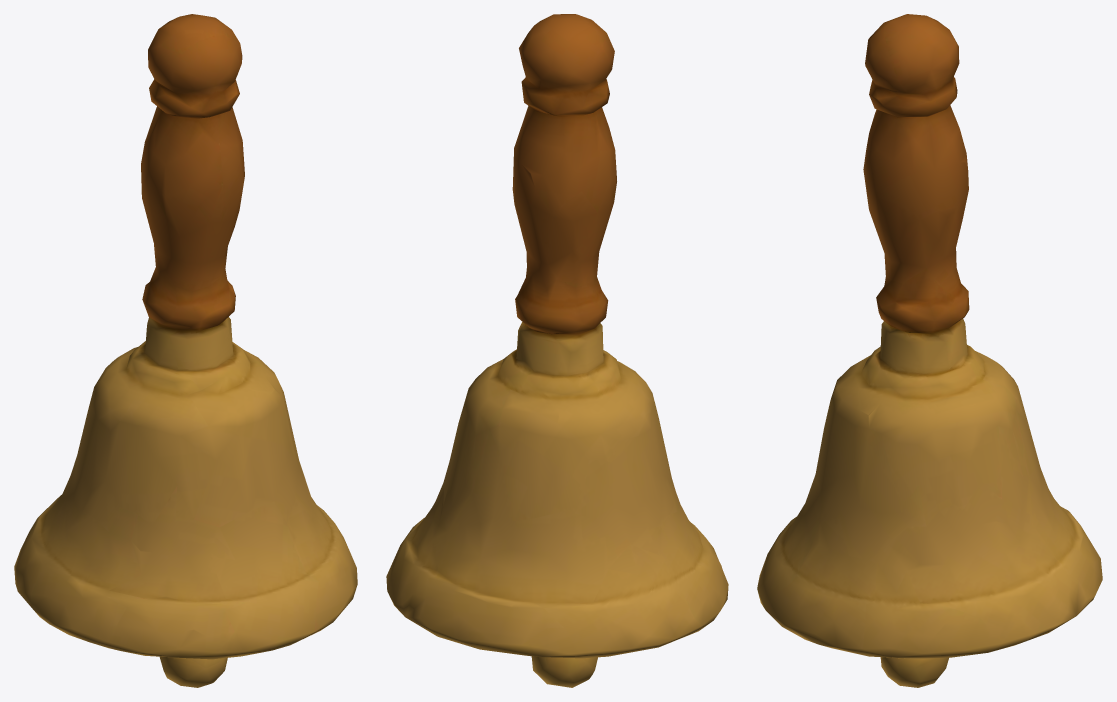
File: toy-bell.glb
3 views of the same model, side by side, from view 1: azimuth 30°, elevation 25°; view 2: azimuth 150°, elevation 25°; view 3: azimuth 270°, elevation 25° (orthographic).
Visible parts, largest first — view 1: tripo_node_06833492-bb28-43e1-b0c9-c83de9a034c9; view 2: tripo_node_06833492-bb28-43e1-b0c9-c83de9a034c9; view 3: tripo_node_06833492-bb28-43e1-b0c9-c83de9a034c9.
Part boxes in pixels (box(x1,y1,x2,y2)): tripo_node_06833492-bb28-43e1-b0c9-c83de9a034c9: box(14, 14, 357, 687); tripo_node_06833492-bb28-43e1-b0c9-c83de9a034c9: box(386, 14, 728, 687); tripo_node_06833492-bb28-43e1-b0c9-c83de9a034c9: box(757, 14, 1102, 687).
Size of the model in its own units: 0.4688 by 1 by 0.4706.
1 material, 1 textured.
